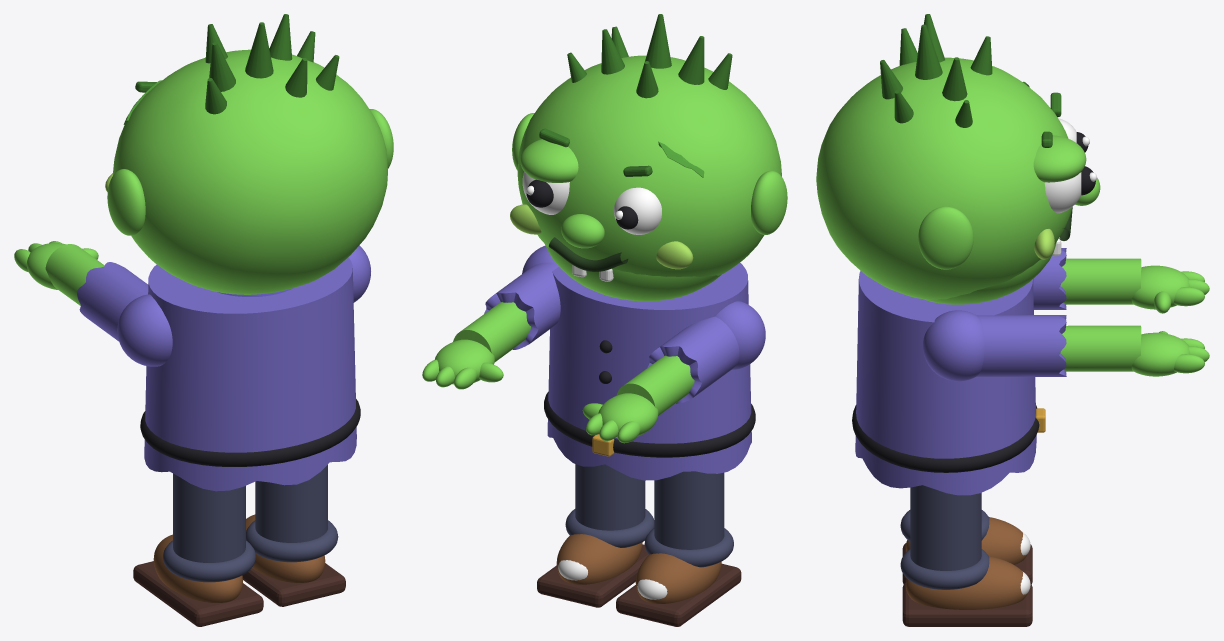
The model's file is zombie_hd.glb.
The picture shows the model from 3 angles, left to right: view 1: azimuth 30°, elevation 25°; view 2: azimuth 150°, elevation 25°; view 3: azimuth 270°, elevation 25°; orthographic projection. The views are drawn at different scales.
Parts seen in each view (by area): view 1: Head, Shirt, Leg-1, Leg1, Belt, Sleeve-1, Shoulder-1, Sole-1, Sole1, Ear-1, Cuff-1, Shoe-1 (+10 smaller); view 2: Head, Shirt, Leg-1, Leg1, Sleeve-1, Cheeks, Sleeve1, Belt, Sole-1, Shoe-1, Shoe1, Forearm1 (+21 smaller); view 3: Head, Shirt, Leg1, Sleeve1, Shoulder1, Forearm-1, Forearm1, Shoe1, Sole1, Belt, Ear1, EyelidL (+11 smaller).
Boxes of the visible parts, x1,y1,x2,y2 form: Head: [113, 49, 387, 294]; Shirt: [144, 257, 356, 491]; Leg-1: [173, 473, 245, 562]; Leg1: [255, 465, 327, 542]; Belt: [140, 399, 360, 466]; Sleeve-1: [77, 262, 148, 341]; Shoulder-1: [117, 294, 172, 366]; Sole-1: [133, 561, 263, 626]; Sole1: [242, 563, 345, 606]; Ear-1: [107, 169, 145, 235]; Cuff-1: [163, 540, 255, 582]; Shoe-1: [153, 534, 242, 602]; Head: [517, 55, 781, 276]; Shirt: [547, 263, 751, 480]; Leg-1: [654, 471, 724, 549]; Leg1: [575, 464, 645, 530]; Sleeve-1: [647, 316, 739, 403]; Cheeks: [545, 244, 721, 301]; Sleeve1: [484, 262, 560, 349]; Belt: [544, 391, 755, 457]; Sole-1: [616, 563, 741, 626]; Shoe-1: [635, 553, 721, 603]; Shoe1: [556, 534, 642, 584]; Forearm1: [453, 302, 530, 362]; Head: [816, 57, 1072, 299]; Shirt: [855, 271, 1036, 495]; Leg1: [910, 485, 981, 570]; Sleeve1: [976, 315, 1066, 376]; Shoulder1: [922, 310, 984, 381]; Forearm-1: [1060, 258, 1141, 304]; Forearm1: [1060, 325, 1141, 371]; Shoe1: [905, 556, 1027, 609]; Sole1: [902, 582, 1032, 626]; Belt: [852, 405, 1039, 472]; Ear1: [918, 206, 973, 269]; EyelidL: [1033, 135, 1086, 182].
Size of the model in its own units: 1 by 2.03 by 1.27.
